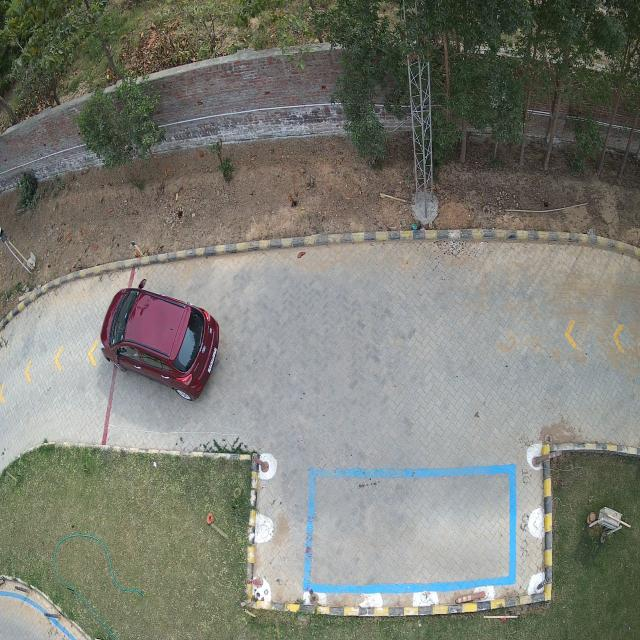car: (100, 280, 220, 400)
